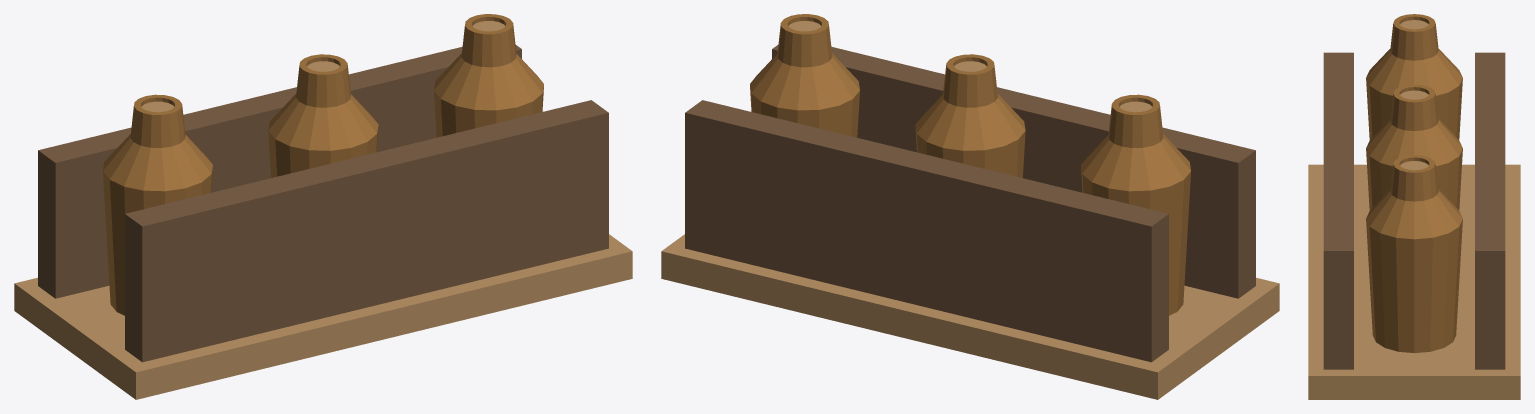
The model's file is bottle_rack.glb.
3 views of the same model, side by side, from view 1: azimuth 30°, elevation 25°; view 2: azimuth 150°, elevation 25°; view 3: azimuth 270°, elevation 25° (orthographic). The views are drawn at different scales.
Parts seen in each view (by area): view 1: Sample rack • corked amber bottles.001; view 2: Sample rack • corked amber bottles.001; view 3: Sample rack • corked amber bottles.001.
Boxes of the visible parts, x1=… form: Sample rack • corked amber bottles.001: x1=14, y1=14, x2=632, y2=399; Sample rack • corked amber bottles.001: x1=661, y1=14, x2=1279, y2=399; Sample rack • corked amber bottles.001: x1=1308, y1=14, x2=1520, y2=399.
Size of the model in its own units: 0.66 by 0.2925 by 0.28.
